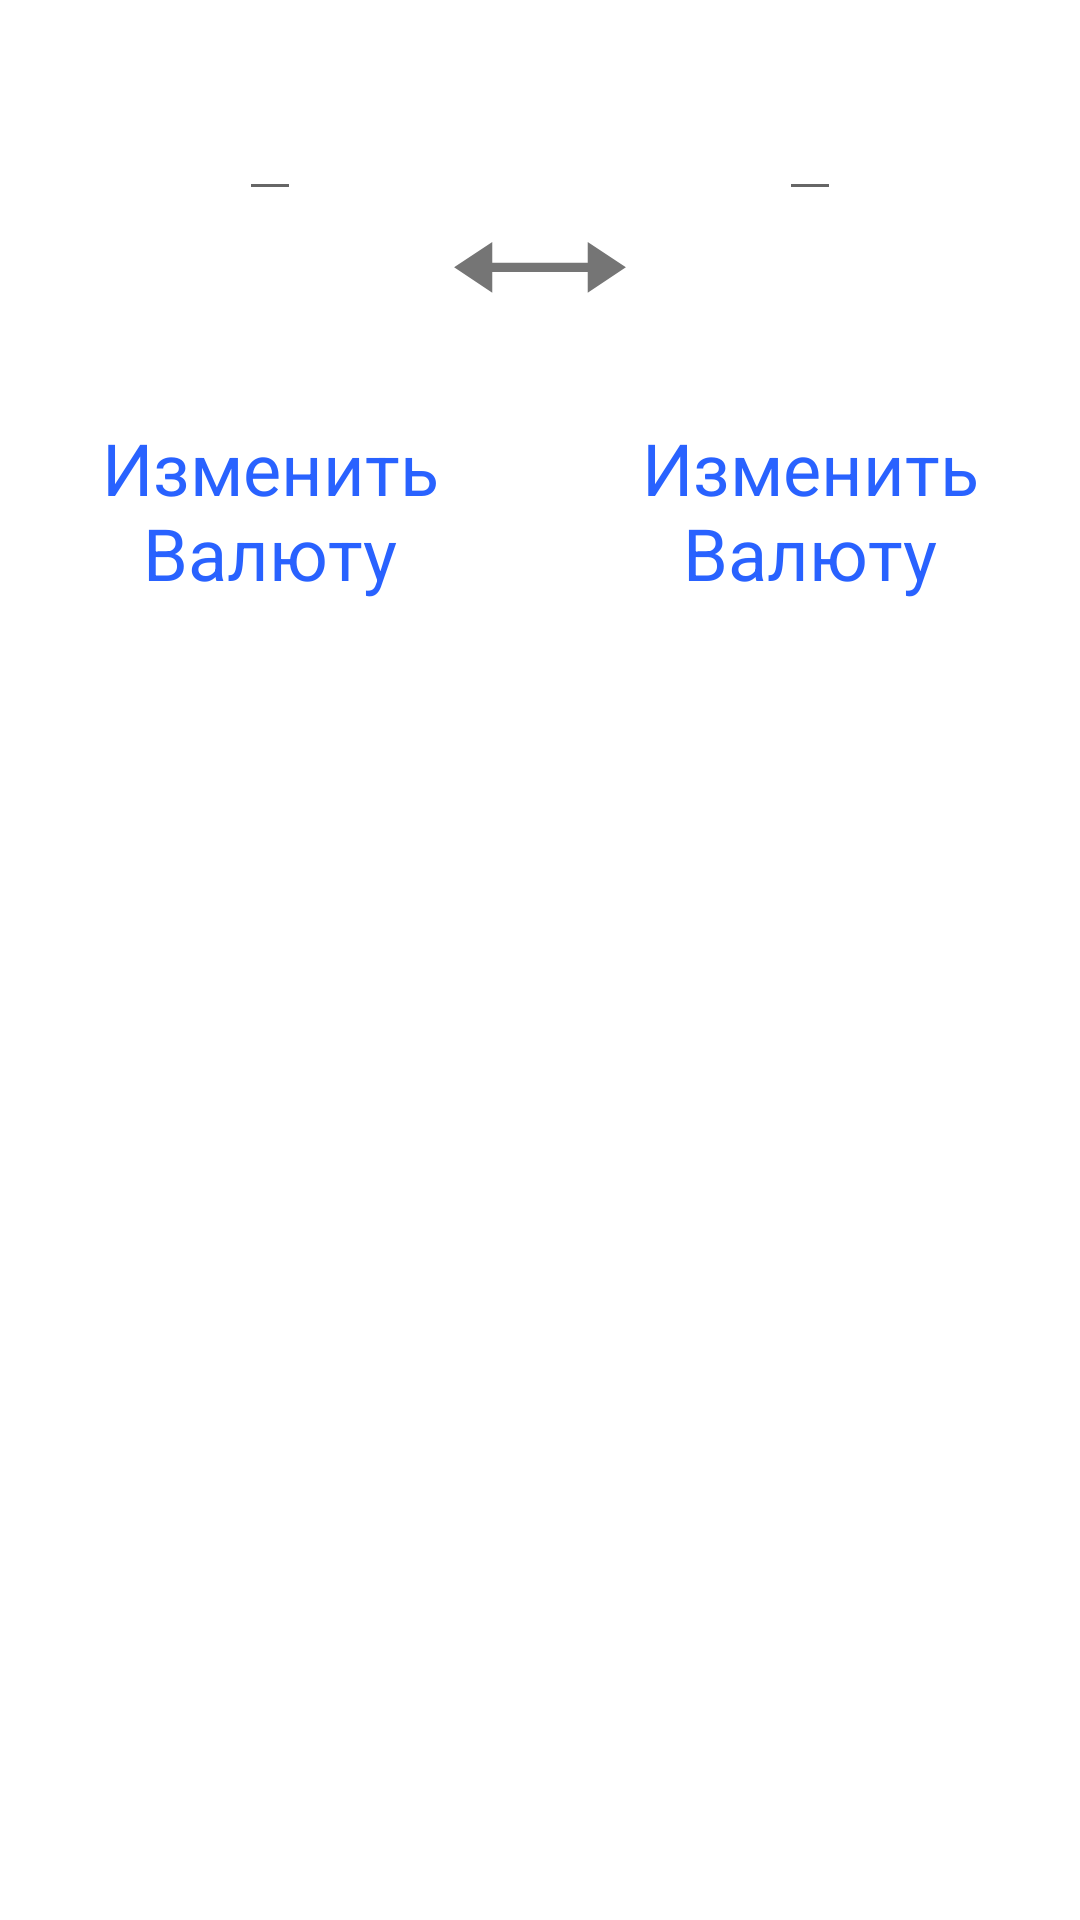

Where to tap for icons on this 1080 × 1920 app screen, as (x=x, y=y):
two arrow: (x=540, y=267)
